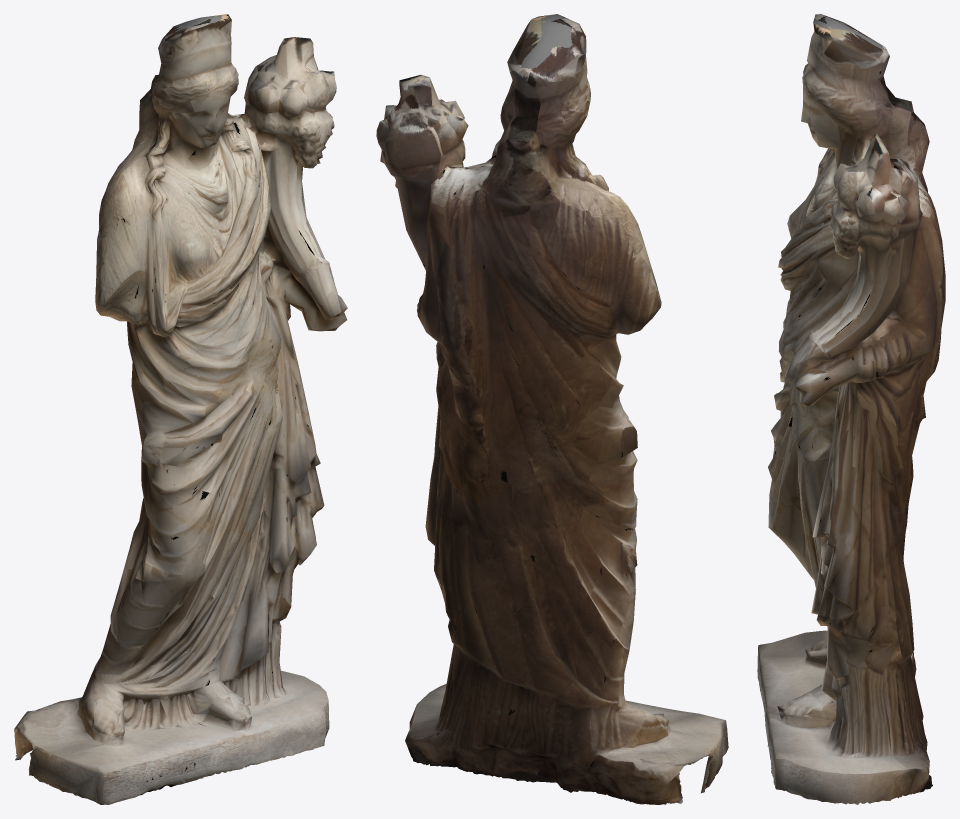
File: Statue.fbx
The picture shows the model from 3 angles, left to right: view 1: azimuth 30°, elevation 25°; view 2: azimuth 150°, elevation 25°; view 3: azimuth 270°, elevation 25°; orthographic projection.
Visible parts, largest first — view 1: Tycho; view 2: Tycho; view 3: Tycho.
Boxes of the visible parts, x1,y1,x2,y2 form: Tycho: [14, 14, 347, 804]; Tycho: [376, 14, 728, 804]; Tycho: [757, 14, 945, 804].
Size of the model in its own units: 79.63 by 177 by 41.48.
